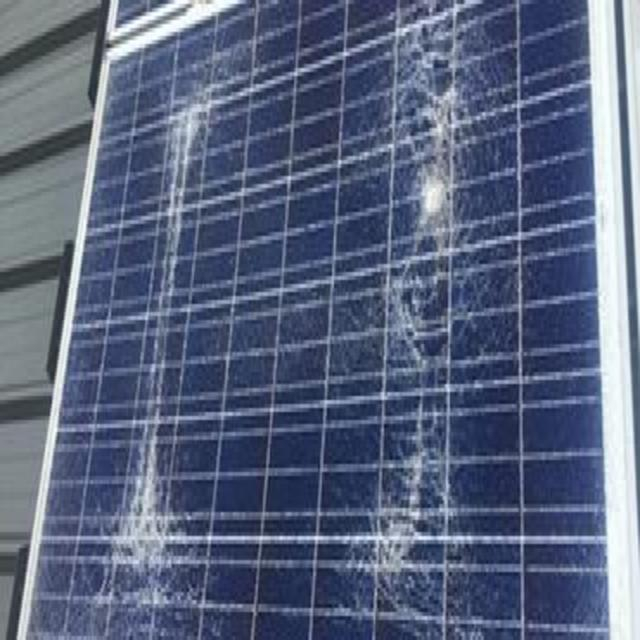cracked: (45, 8, 612, 640)
